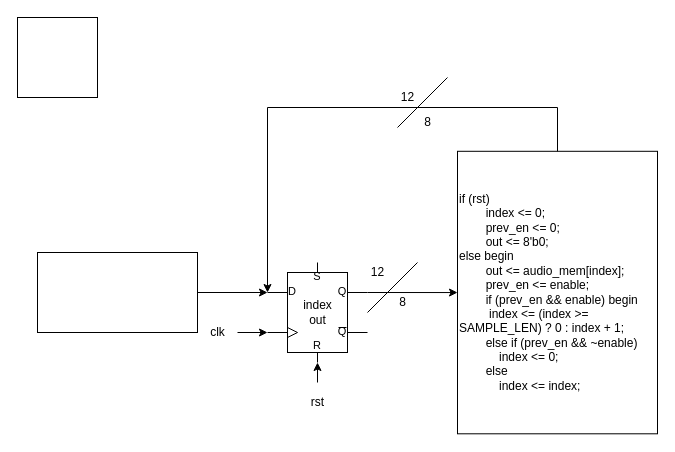
Image size: 675x452. Some labels were removed from this diagram. The shapes that lost their labels are listed below. From the top down, each one's centre as x and y in pixels, then its label:
At point 57,57: "sample".
At point 117,292: "initial $readmemh(SAMPLE_FILE, audio_mem, 0, SAMPLE_LEN);".
